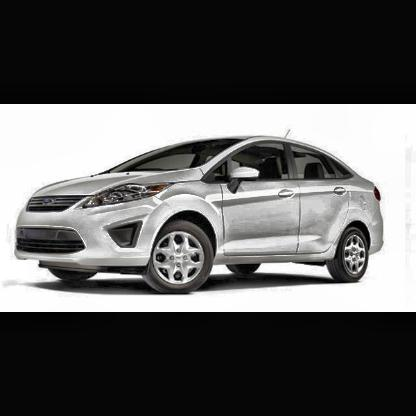Ford Fiesta Sedan 2012: (16, 136, 387, 294)
